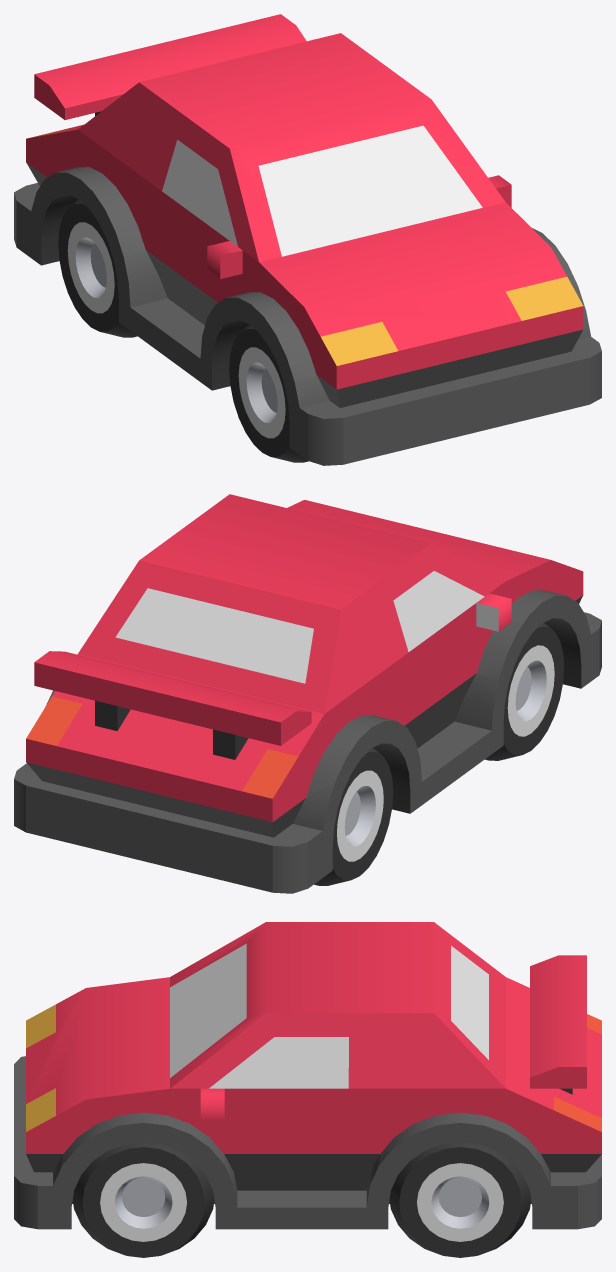
The model's file is sedanSports.fbx.
3 views of the same model, one above another, from view 1: azimuth 30°, elevation 25°; view 2: azimuth 150°, elevation 25°; view 3: azimuth 270°, elevation 25° (orthographic). The views are drawn at different scales.
Visible parts, largest first — view 1: body, spoiler, wheel_frontRight, wheel_backRight; view 2: body, spoiler, wheel_backRight, wheel_frontRight; view 3: body, wheel_backLeft, wheel_frontLeft, spoiler.
Part boxes in pixels (x1,y1,x2,y2): body: (14, 33, 601, 465); spoiler: (34, 14, 306, 119); wheel_frontRight: (229, 324, 308, 462); wheel_backRight: (58, 199, 137, 337); body: (14, 494, 601, 893); spoiler: (34, 651, 311, 759); wheel_backRight: (314, 747, 393, 885); wheel_frontRight: (485, 622, 564, 760); body: (14, 922, 601, 1229); wheel_backLeft: (389, 1142, 531, 1257); wheel_frontLeft: (72, 1142, 214, 1257); spoiler: (530, 955, 586, 1094).
Size of the model in its own units: 13 by 11 by 24.5.
